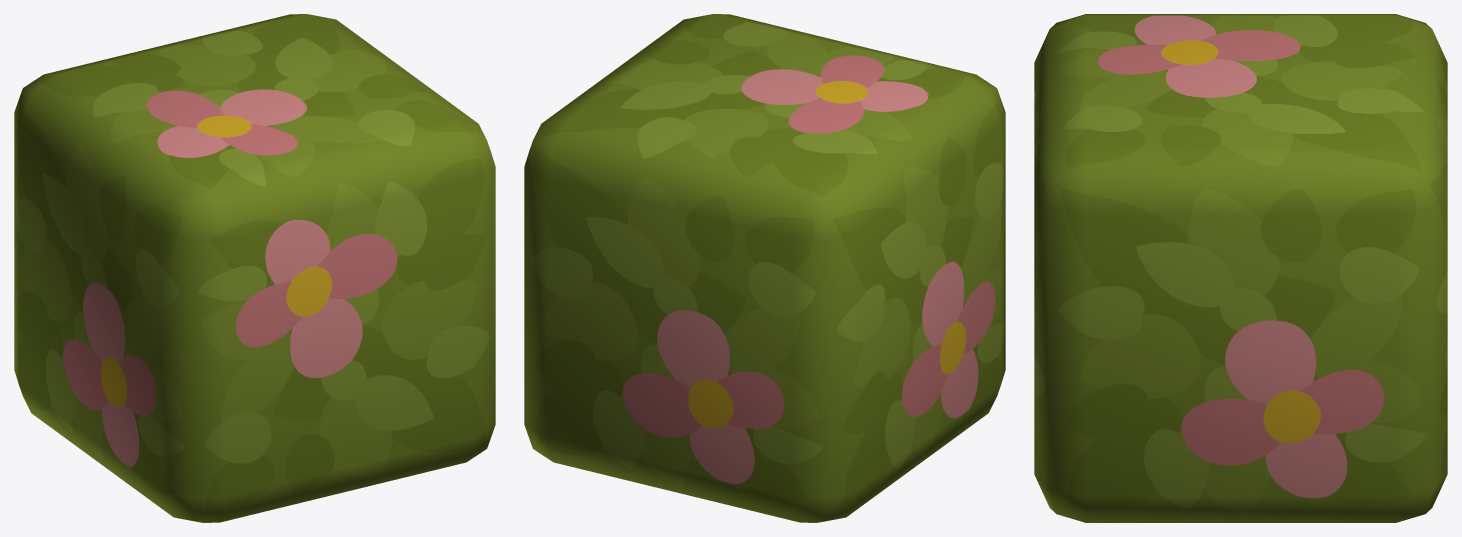
Rendered from Box1x1_Flower.gltf.
3 views of the same model, side by side, from view 1: azimuth 30°, elevation 25°; view 2: azimuth 150°, elevation 25°; view 3: azimuth 270°, elevation 25° (orthographic). The views are drawn at different scales.
Visible parts, largest first — view 1: Cube; view 2: Cube; view 3: Cube.
Boxes of the visible parts, x1,y1,x2,y2 form: Cube: (14,14,495,522); Cube: (524,14,1005,522); Cube: (1034,14,1447,522).
Bounding box in the file's own units: 1 × 1 × 1.
Materials: 1 (1 with a texture image).
